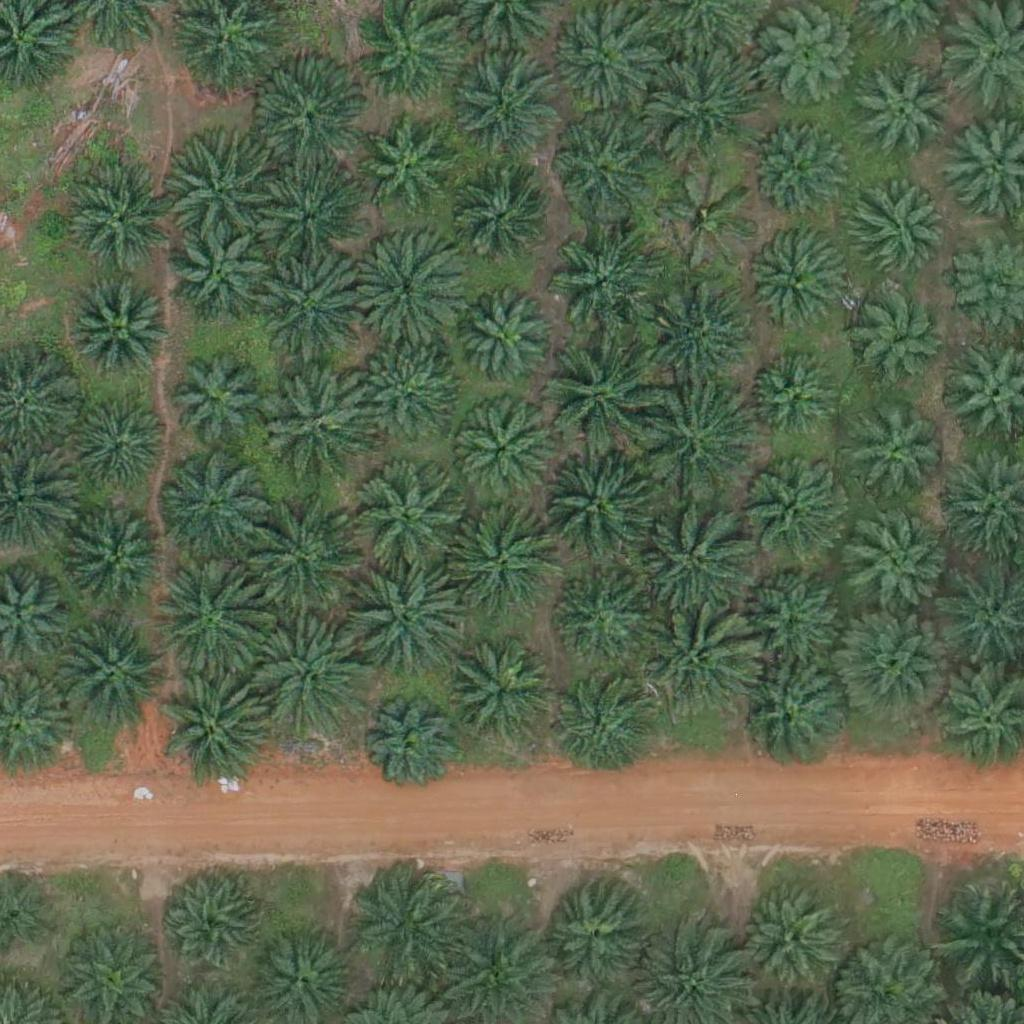Kelapa_Sawit: (542, 447, 655, 561), (349, 231, 462, 345), (258, 247, 371, 361), (252, 624, 365, 738), (149, 564, 262, 678), (52, 617, 165, 731), (346, 874, 459, 987), (636, 501, 749, 614), (639, 272, 752, 385), (643, 52, 756, 165), (541, 341, 654, 454), (444, 505, 557, 618), (354, 466, 467, 579), (263, 365, 376, 478), (537, 879, 649, 993), (639, 386, 751, 500), (156, 448, 268, 562), (840, 612, 952, 725), (734, 658, 846, 771), (639, 606, 751, 719), (547, 220, 659, 333), (446, 642, 558, 755), (356, 563, 468, 676), (256, 69, 368, 182), (245, 498, 357, 611), (161, 675, 273, 788), (167, 125, 279, 238), (737, 890, 837, 991), (852, 62, 952, 163), (844, 182, 944, 283), (849, 282, 949, 383), (845, 514, 945, 615), (750, 117, 850, 218), (747, 233, 847, 334), (746, 459, 846, 560), (548, 6, 648, 107), (550, 118, 650, 219), (554, 571, 654, 672), (551, 680, 651, 781), (456, 63, 556, 164), (451, 403, 551, 504), (357, 118, 457, 219), (168, 353, 268, 454), (169, 223, 269, 324), (160, 873, 260, 973), (753, 12, 853, 112), (747, 561, 847, 661), (659, 168, 759, 268), (448, 177, 548, 277), (359, 350, 459, 450), (259, 166, 359, 266), (70, 174, 170, 274), (71, 283, 171, 383), (71, 399, 171, 499), (67, 515, 167, 615), (461, 297, 549, 386), (749, 358, 837, 446), (853, 410, 940, 498), (364, 704, 451, 792)
